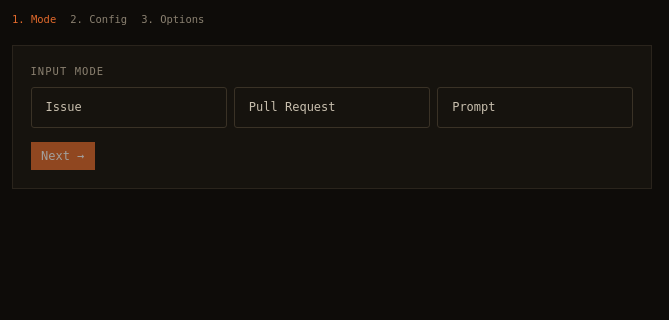
Test: <Submit> › rejects invalid max turns before submitting
Step 1. Click the button "Issue" → point(129, 107), box [30,86,227,128]
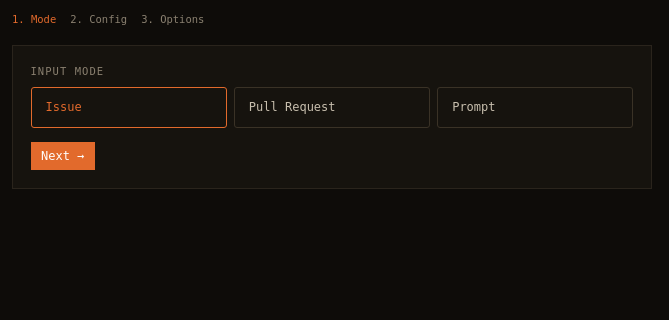
Step 2. Click the button "Next →" → point(63, 156), box [30,142,95,170]
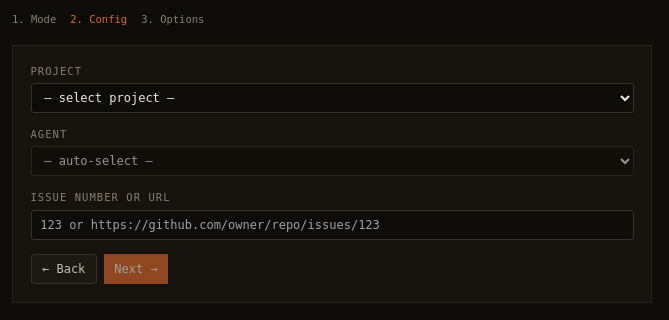
Step 3. Type "99" into the field with placeholder "123 or https://github.com/owner/repo/issues/123" → point(332, 224), box [30,210,634,240]
Step 4. Select "alpha" in the dropdown labelled "Project" → point(332, 98), box [30,83,634,113]
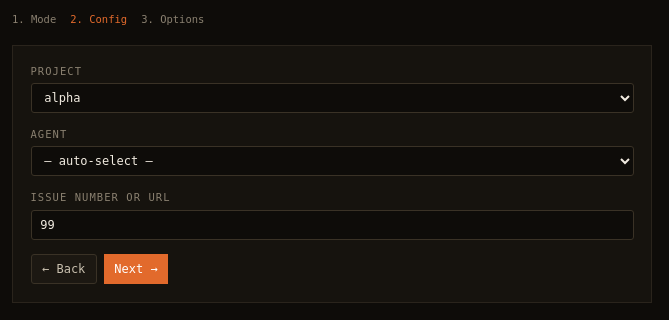
Step 5. Click the button "Next →" → point(136, 269), box [104,254,168,284]
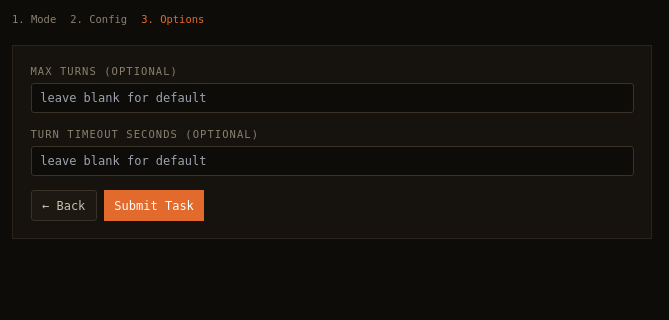
Step 6. Type "1.5" into the number field with placeholder "leave blank for default" below "Max turns (optional)" → point(332, 98), box [30,83,634,113]
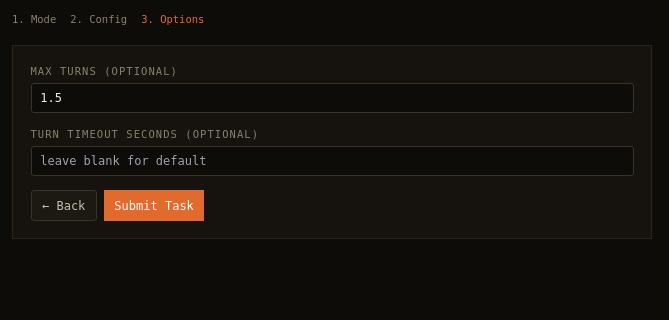
Step 7. Click the button "Submit Task" → point(154, 206), box [104,190,204,221]
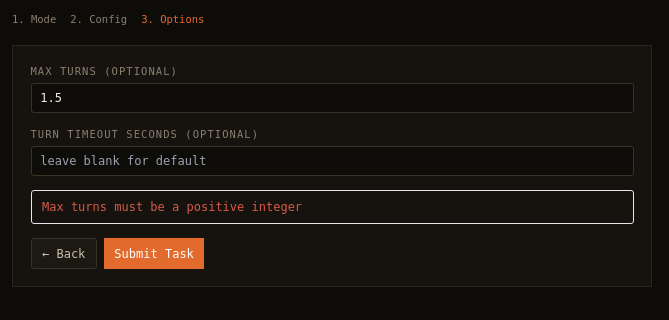
Check: the text "Max turns must be a positive integer" is shown, box [30,190,634,224]
